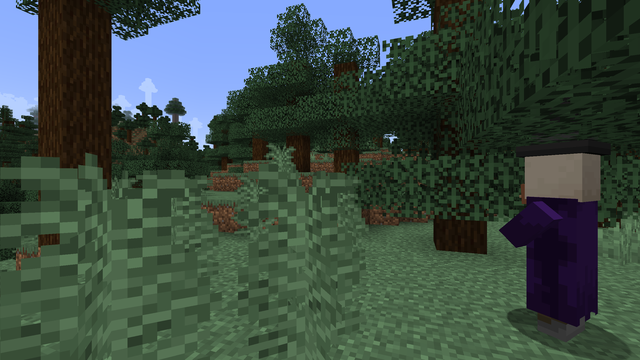sorcieres: (517, 144, 619, 353)
